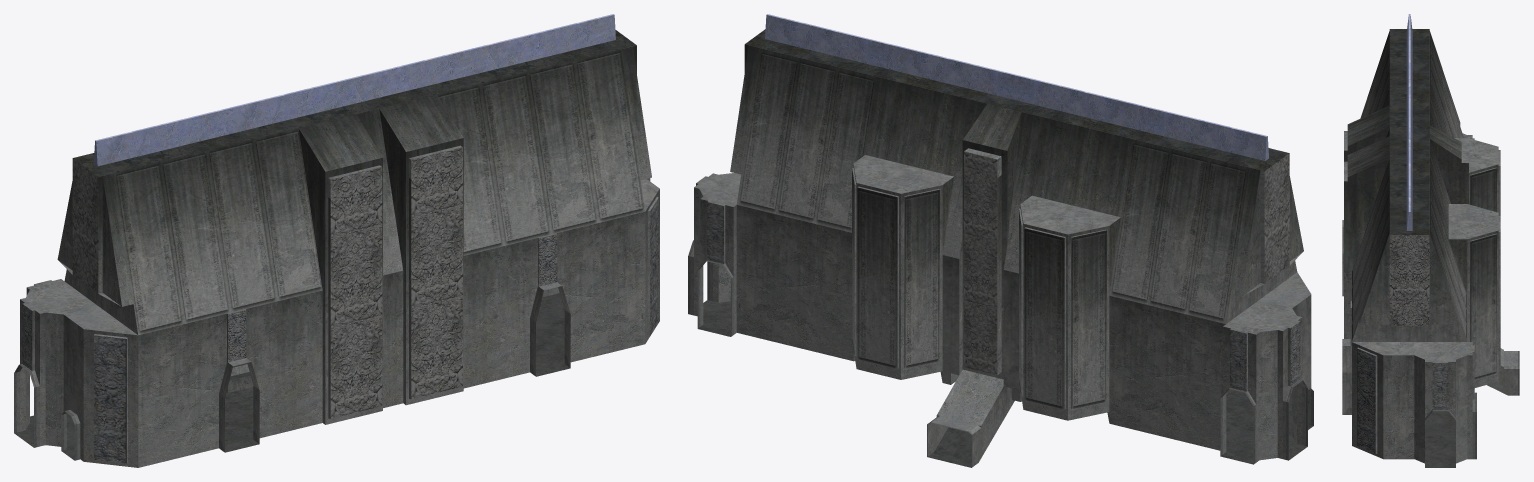
File: thm_yavn_jedi_enclave_dark_r8_antechamber_mesh.fbx
3 renders of one model, left to right at view 1: azimuth 30°, elevation 25°; view 2: azimuth 150°, elevation 25°; view 3: azimuth 270°, elevation 25°, orthographic. The views are drawn at different scales.
Visible parts, largest first — view 1: mesh_node; view 2: mesh_node; view 3: mesh_node.
Boxes of the visible parts, box(x1,y1,x2,y2) form: mesh_node: box(14, 14, 659, 467); mesh_node: box(688, 14, 1313, 467); mesh_node: box(1342, 14, 1519, 467).
Bounding box in the file's own units: 54 × 29 × 17.
